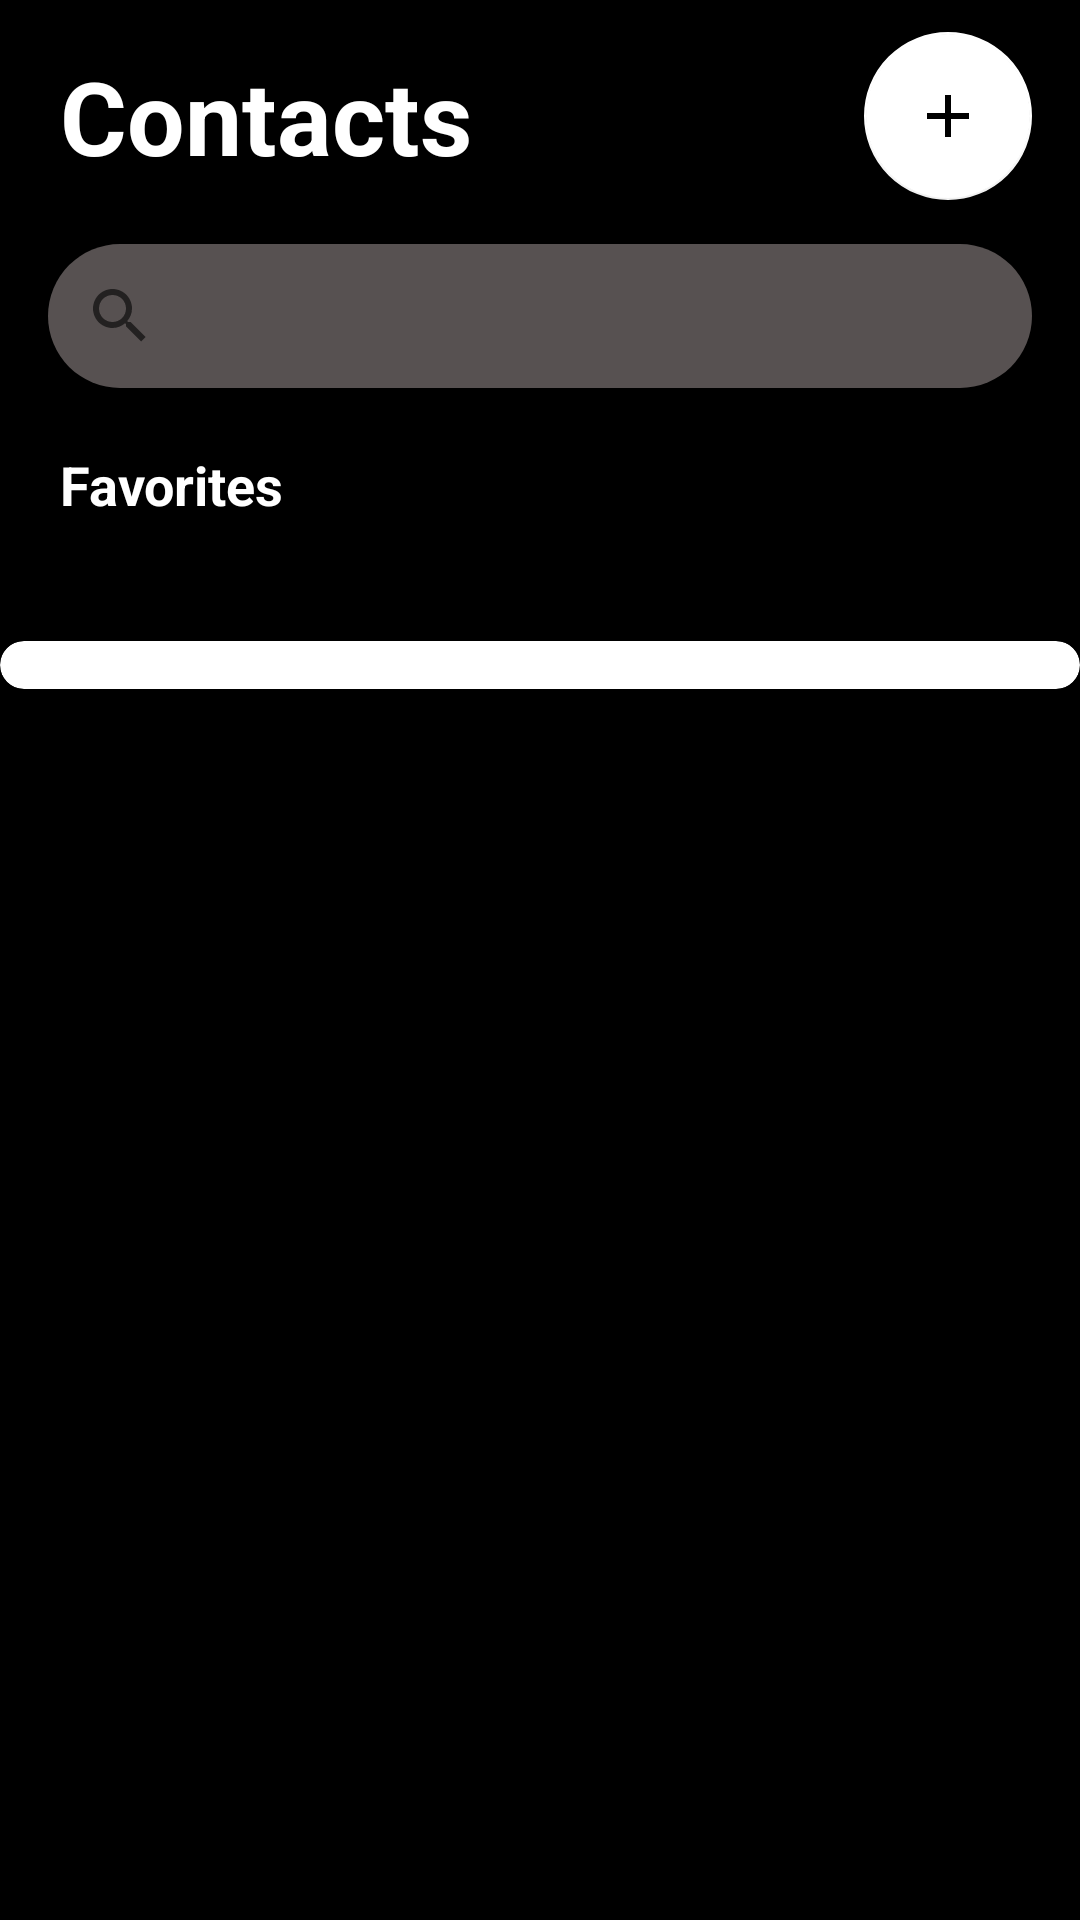

Screen size 1080w x 1920h. Icon name, then its center in pixels as (x=x, y=y):
floating action button to add contacts: (x=948, y=116)
